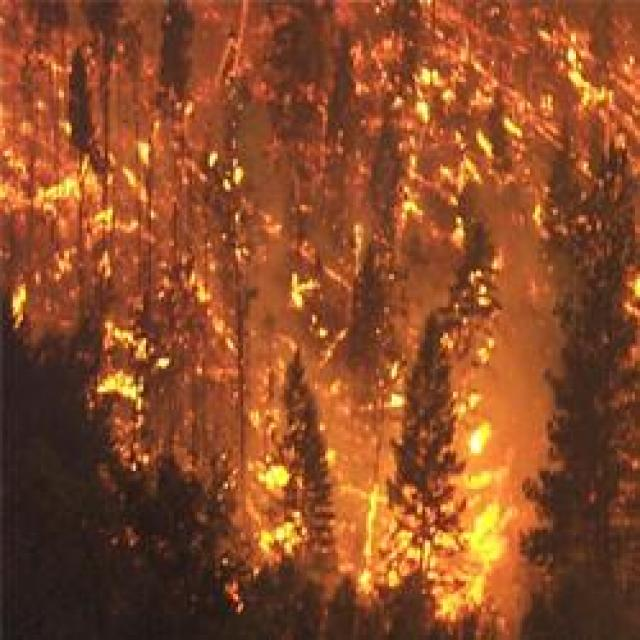fire: (472, 507, 504, 562), (259, 521, 295, 550), (567, 69, 595, 103), (465, 419, 492, 454), (102, 375, 138, 397), (433, 591, 458, 621), (259, 464, 287, 488), (47, 180, 83, 198), (366, 490, 375, 561), (465, 472, 493, 493), (467, 577, 481, 601), (292, 274, 302, 307), (416, 104, 432, 120)
